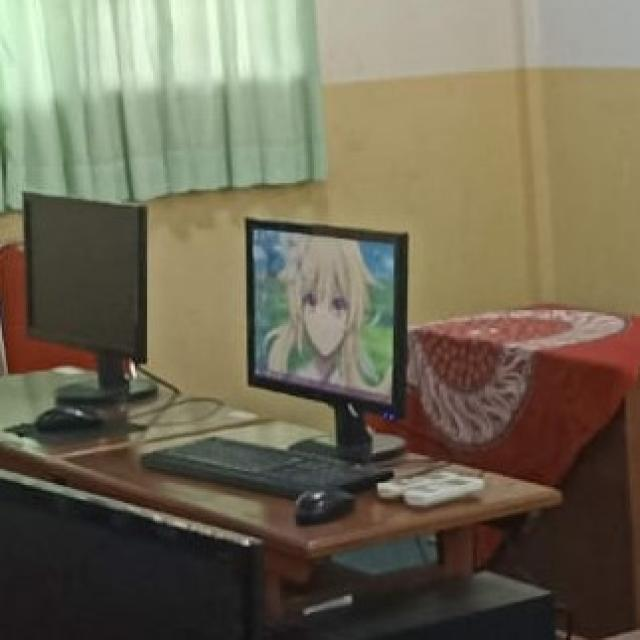offscreen: (26, 192, 156, 404)
onscreen: (249, 219, 408, 461)
